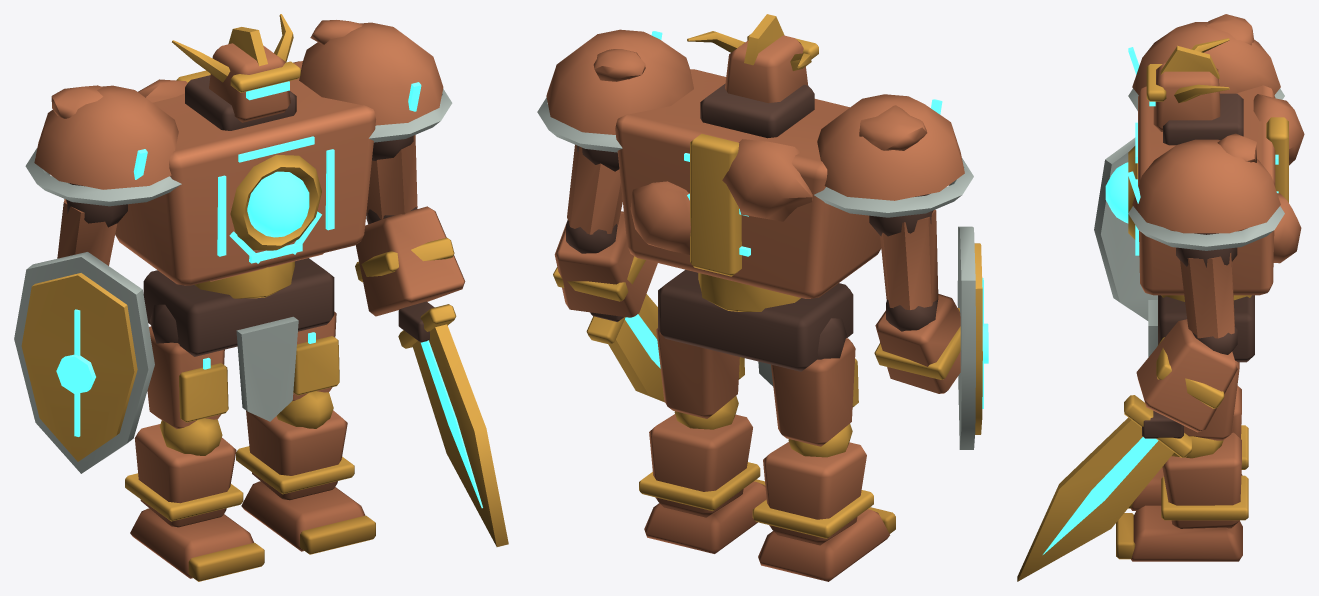
File: vaultsentinel.glb
The picture shows the model from 3 angles, left to right: view 1: azimuth 30°, elevation 25°; view 2: azimuth 150°, elevation 25°; view 3: azimuth 270°, elevation 25°; orthographic projection. The views are drawn at different scales.
Parts seen in each view (by area): view 1: Chest, Pauldron, Shield, Pelvis, Shield_rim, Forearm, Blade, Shin, Upper_arm, Shin.001, Tabard, Foot (+30 smaller); view 2: Chest, Pauldron, Crust, Pelvis, Forearm, Upper_arm, Shin, Shin.001, Spine, Thigh, Thigh.001, Foot (+20 smaller); view 3: Pauldron, Blade, Chest, Forearm, Shin.001, Foot.001, Shield_rim, Crust, Upper_arm, Head, Pauldron_band, Collar (+20 smaller).
Boxes of the visible parts, bbox=[...] form: Chest: bbox=[115, 61, 375, 285]; Pauldron: bbox=[34, 22, 443, 189]; Shield: bbox=[21, 273, 137, 461]; Pelvis: bbox=[143, 258, 334, 356]; Shield_rim: bbox=[14, 252, 154, 473]; Forearm: bbox=[355, 206, 465, 316]; Blade: bbox=[412, 324, 508, 546]; Shin: bbox=[134, 424, 236, 527]; Upper_arm: bbox=[57, 135, 417, 265]; Shin.001: bbox=[246, 410, 347, 500]; Tabard: bbox=[236, 316, 298, 421]; Foot: bbox=[130, 508, 253, 578]; Chest: bbox=[615, 69, 881, 298]; Pauldron: bbox=[546, 29, 964, 200]; Crust: bbox=[593, 49, 927, 254]; Pelvis: bbox=[658, 269, 853, 371]; Forearm: bbox=[554, 211, 960, 393]; Upper_arm: bbox=[567, 144, 938, 309]; Shin: bbox=[763, 442, 866, 545]; Shin.001: bbox=[649, 414, 752, 517]; Spine: bbox=[690, 133, 741, 276]; Thigh: bbox=[771, 338, 855, 446]; Thigh.001: bbox=[656, 328, 739, 418]; Foot: bbox=[758, 509, 889, 581]; Pauldron: bbox=[1132, 22, 1280, 233]; Blade: bbox=[1017, 417, 1173, 581]; Chest: bbox=[1138, 85, 1275, 295]; Forearm: bbox=[1136, 319, 1237, 432]; Shin.001: bbox=[1162, 432, 1241, 528]; Foot.001: bbox=[1131, 505, 1242, 561]; Shield_rim: bbox=[1094, 137, 1157, 320]; Crust: bbox=[1205, 14, 1304, 263]; Upper_arm: bbox=[1180, 253, 1234, 338]; Head: bbox=[1153, 62, 1220, 131]; Pauldron_band: bbox=[1128, 88, 1284, 250]; Collar: bbox=[1163, 93, 1243, 145].
Size of the model in its own units: 2.81 by 3.23 by 1.78.
